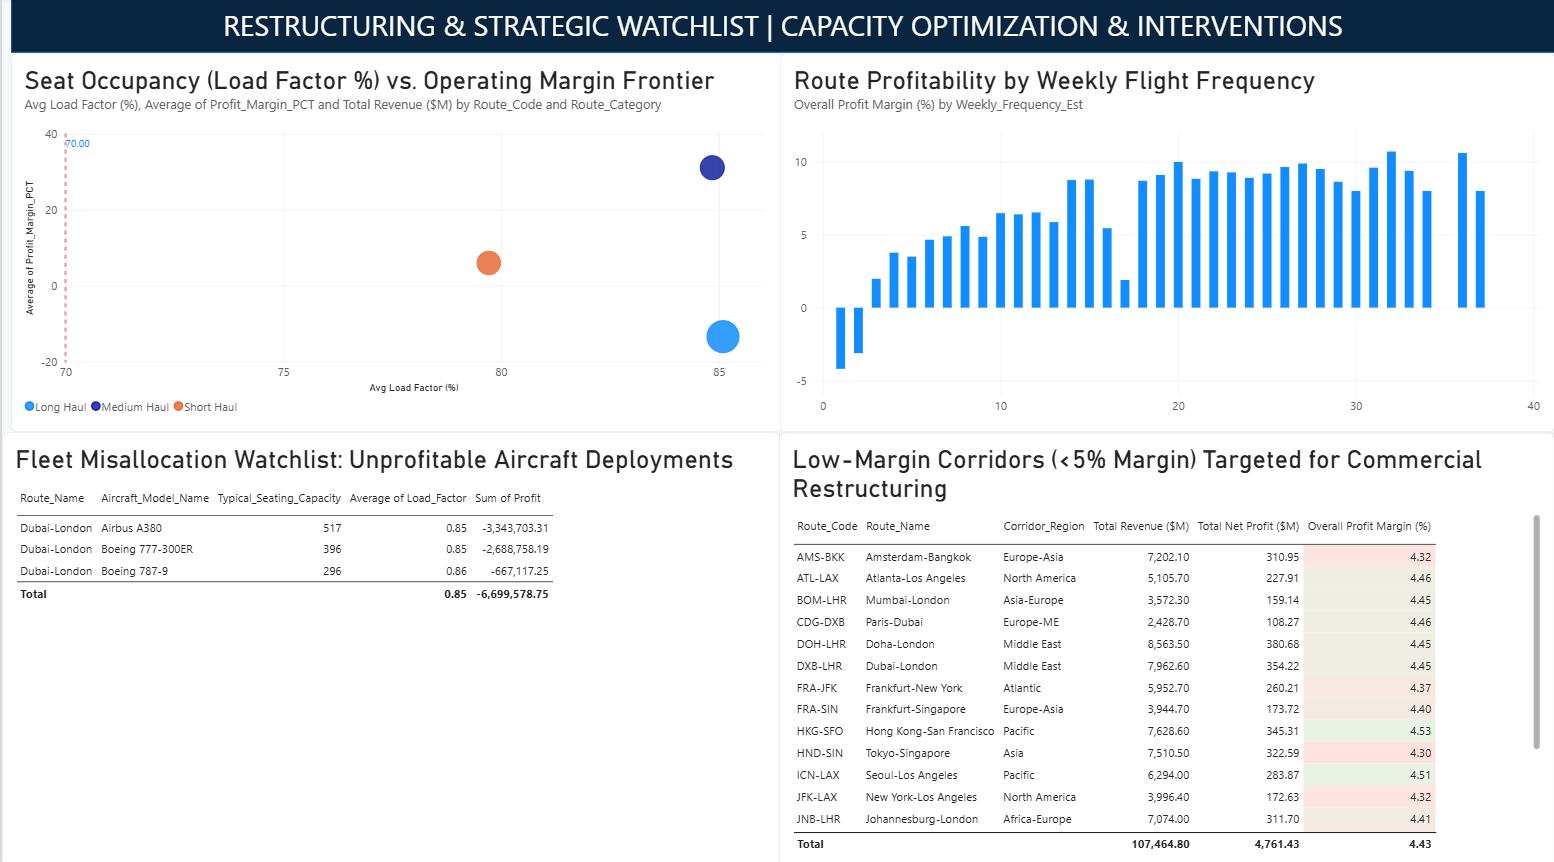

This screenshot's page, from the dashboard's own definition file:
{"tool":"powerbi","page":{"name":"5. Restructuring & Watchlist","canvas":[1920,1080],"ordinal":4},"visuals":[{"type":"shape","box":[10.6,0,1908.2,70],"z":0},{"type":"scatterChart","title":"Seat Occupancy (Load Factor %) vs. Operating Margin Frontier","fields":{"Category":["Dim_Route.Route_Code"],"Series":["Dim_Route.Route_Category"],"Size":["Fact_Route_Performance.Total Revenue ($M)"],"X":["Fact_Flight_Operations.Avg Load Factor (%)"],"Y":["Avg(Fact_Flight_Operations.Profit_Margin_PCT)"]},"box":[10.6,70.9,954.1,468.2],"z":1},{"type":"clusteredColumnChart","title":"Route Profitability by Weekly Flight Frequency","fields":{"Category":["Fact_Route_Performance.Weekly_Frequency_Est"],"Y":["Fact_Route_Performance.Overall Profit Margin (%)"]},"box":[961.2,70.9,957.6,468.2],"z":2},{"type":"tableEx","title":"Fleet Misallocation Watchlist: Unprofitable Aircraft Deployments","fields":{"Values":["Dim_Route.Route_Name","Dim_Aircraft.Aircraft_Model_Name","Dim_Aircraft.Typical_Seating_Capacity","Avg(Fact_Flight_Operations.Load_Factor)","Sum(Fact_Flight_Operations.Profit)"]},"box":[0,539.1,961.2,539.1],"z":3},{"type":"tableEx","title":"Low-Margin Corridors (<5% Margin) Targeted for Commercial Restructuring","fields":{"Values":["Dim_Route.Route_Code","Dim_Route.Route_Name","Dim_Route.Corridor_Region","Fact_Route_Performance.Total Revenue ($M)","Fact_Route_Performance.Total Net Profit ($M)","Fact_Route_Performance.Overall Profit Margin (%)"]},"box":[961,539,958,539],"z":4}]}

Visuals, with their boxes in screenshot pixels (x1, y1, x2, y2), scaled from the page's 1920x1080 canvas onto the 1554x862 screenshot:
shape: crop(9, 0, 1553, 56)
"Seat Occupancy (Load Factor %) vs. Operating Margin Frontier" scatterChart: crop(9, 57, 781, 430)
"Route Profitability by Weekly Flight Frequency" clusteredColumnChart: crop(778, 57, 1553, 430)
"Fleet Misallocation Watchlist: Unprofitable Aircraft Deployments" tableEx: crop(0, 430, 778, 861)
"Low-Margin Corridors (<5% Margin) Targeted for Commercial Restructuring" tableEx: crop(778, 430, 1553, 860)
